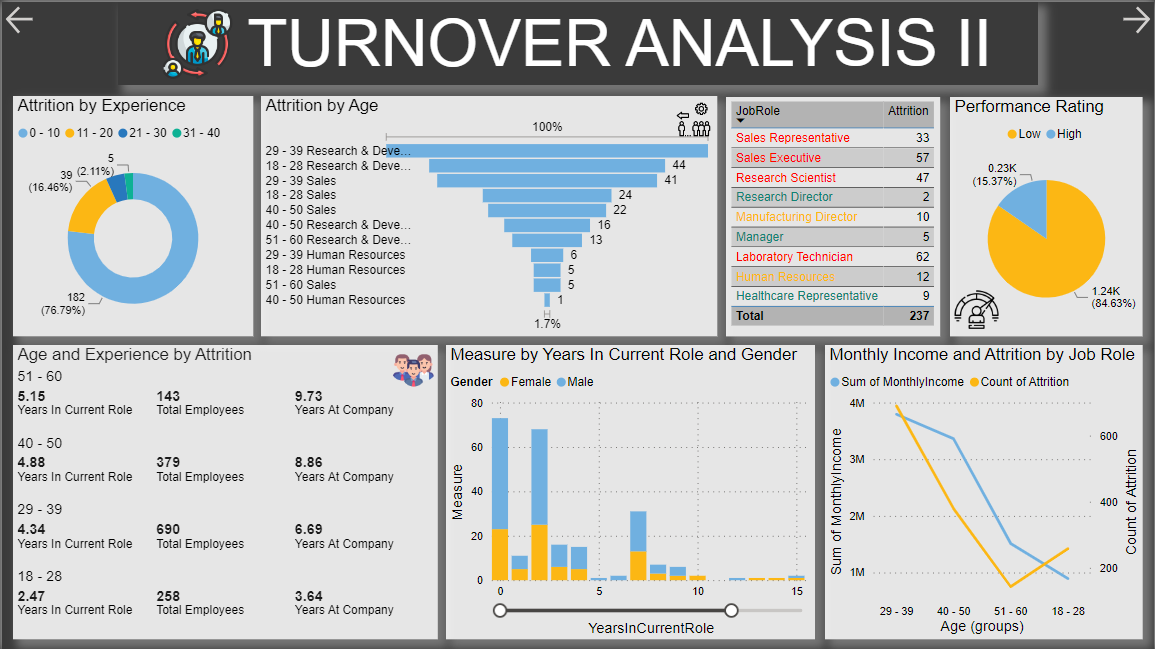

Layout of this report page (visuals, bound fields, positions):
{"tool":"powerbi","page":{"name":"Turnover analysis 2","canvas":[1280,720],"ordinal":3},"visuals":[{"type":"group","id":"g1","title":"Group 1","box":[128.9,0,1022.2,93.3],"z":0},{"type":"shape","box":[128.9,0,1022.2,92.2],"z":0,"group":"g1"},{"type":"textbox","box":[267.8,0,844.4,92.2],"z":1000,"group":"g1"},{"type":"lineChart","title":"Monthly Income and Attrition by Job Role","fields":{"Category":["HR-Employee-Attrition.Age (groups)"],"Y":["Sum(HR-Employee-Attrition.MonthlyIncome)"],"Y2":["CountNonNull(HR-Employee-Attrition.Attrition)"]},"box":[914.4,381.1,353.3,326.7],"z":1000},{"type":"image","box":[166.7,0,101.1,93.3],"z":2000,"group":"g1"},{"type":"pieChart","title":"Performance Rating","fields":{"Category":["HR-Employee-Attrition.PerformanceRating (groups)"],"Y":["CountNonNull(HR-Employee-Attrition.PerformanceRating (groups))"]},"box":[1053.3,105.6,214.4,265.6],"z":2000},{"type":"tableEx","fields":{"Values":["HR-Employee-Attrition.JobRole","HR-Employee-Attrition.Measure"]},"box":[804.4,105.6,237.8,265.6],"z":3000},{"type":"columnChart","title":"Measure by Years In Current Role and Gender","fields":{"Category":["HR-Employee-Attrition.YearsInCurrentRole"],"Y":["HR-Employee-Attrition.Measure"],"Series":["HR-Employee-Attrition.Gender"]},"box":[493.3,381.1,410,326.7],"z":4000},{"type":"multiRowCard","title":"Age and Experience by Attrition","fields":{"Values":["Avg(HR-Employee-Attrition.YearsInCurrentRole)","CountNonNull(HR-Employee-Attrition.EmployeeNumber)","Avg(HR-Employee-Attrition.YearsAtCompany)","HR-Employee-Attrition.Age (groups)"]},"box":[12.2,381.1,472.2,326.7],"z":5000},{"type":"funnel","title":"Attrition by Age","fields":{"Category":["HR-Employee-Attrition.Age (groups)","HR-Employee-Attrition.Department"],"Y":["HR-Employee-Attrition.Measure"]},"box":[287.8,104.4,506.7,266.7],"z":6000},{"type":"donutChart","title":"Attrition by Experience","fields":{"Category":["HR-Employee-Attrition.TotalWorkingYears (groups)"],"Y":["HR-Employee-Attrition.Measure"]},"box":[12.2,104.4,266.7,266.7],"z":7000},{"type":"actionButton","box":[1240,0,40,40],"z":8000},{"type":"actionButton","box":[0,0,43.3,40],"z":9000},{"type":"image","box":[743.3,105.6,50,50],"z":9001},{"type":"image","box":[428.9,381.1,55.6,55.6],"z":9002},{"type":"image","box":[1053.3,312.2,58.9,58.9],"z":9003}]}

Visuals, with their boxes in screenshot pixels (x1, y1, x2, y2), scaled from the page's 1280x720 canvas onto the 1155x649 screenshot:
"Group 1" group: [x1=116, y1=0, x2=1039, y2=84]
shape: [x1=116, y1=0, x2=1039, y2=83]
textbox: [x1=242, y1=0, x2=1004, y2=83]
"Monthly Income and Attrition by Job Role" lineChart: [x1=825, y1=344, x2=1144, y2=638]
image: [x1=150, y1=0, x2=242, y2=84]
"Performance Rating" pieChart: [x1=950, y1=95, x2=1144, y2=335]
tableEx - HR-Employee-Attrition.JobRole x HR-Employee-Attrition.Measure: [x1=726, y1=95, x2=940, y2=335]
"Measure by Years In Current Role and Gender" columnChart: [x1=445, y1=344, x2=815, y2=638]
"Age and Experience by Attrition" multiRowCard: [x1=11, y1=344, x2=437, y2=638]
"Attrition by Age" funnel: [x1=260, y1=94, x2=717, y2=335]
"Attrition by Experience" donutChart: [x1=11, y1=94, x2=252, y2=335]
actionButton: [x1=1119, y1=0, x2=1154, y2=36]
actionButton: [x1=0, y1=0, x2=39, y2=36]
image: [x1=671, y1=95, x2=716, y2=140]
image: [x1=387, y1=344, x2=437, y2=394]
image: [x1=950, y1=281, x2=1004, y2=335]
